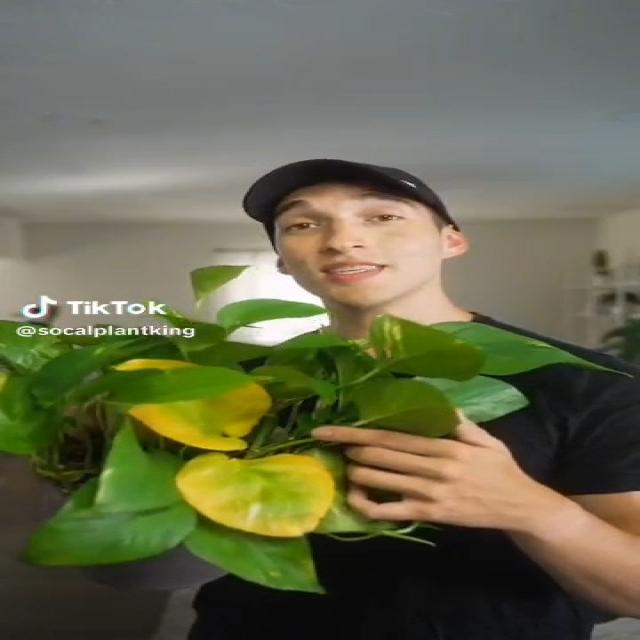lisc_przelany: (174, 451, 340, 539), (119, 382, 274, 455), (110, 359, 201, 376)
roslina_przelana: (0, 315, 635, 599)
